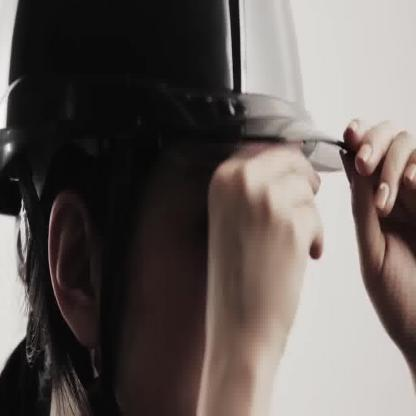helmet: (0, 0, 351, 219)
